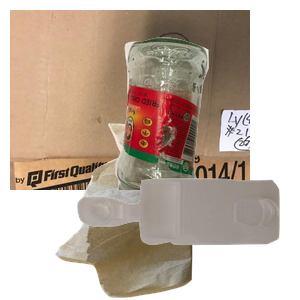cardboard: (10, 10, 250, 190)
glass: (112, 35, 300, 215)
plastic: (75, 176, 300, 300)
trash: (53, 121, 239, 300)
